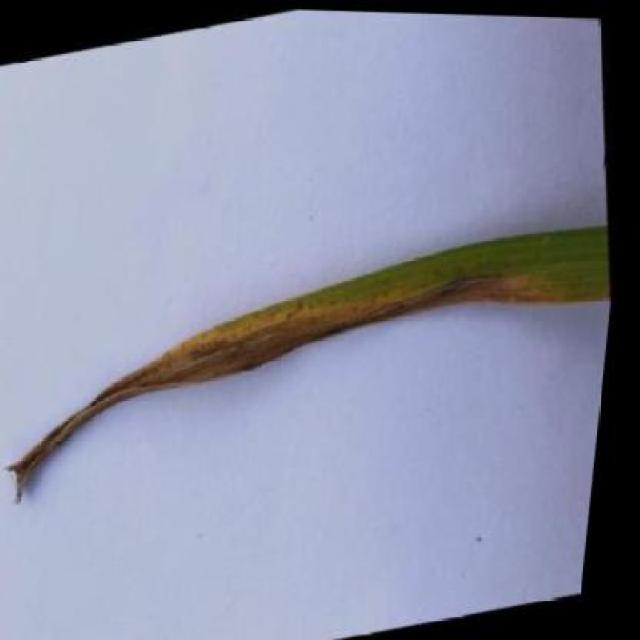Rice False Smut: (9, 196, 616, 515)
